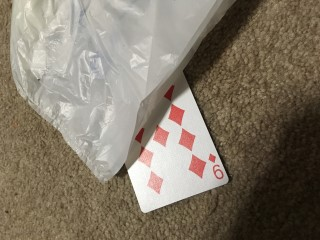NineOfDiamonds: (125, 72, 228, 213)
